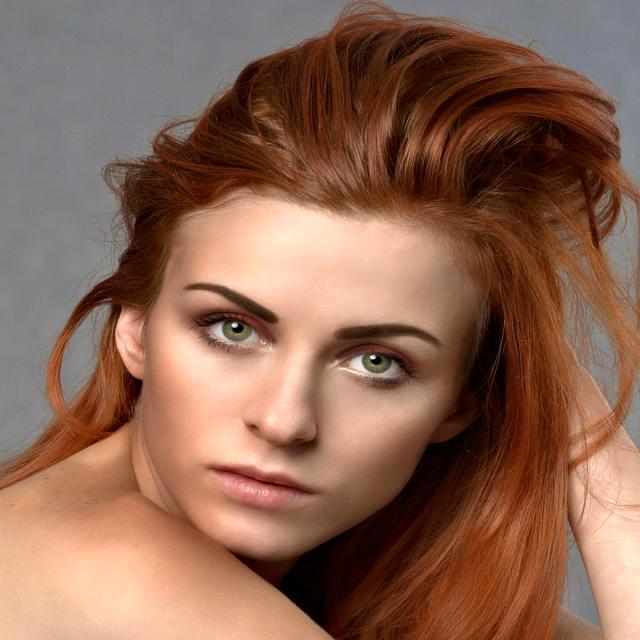no_head_wear: (2, 4, 640, 640)
person: (2, 4, 640, 640)
